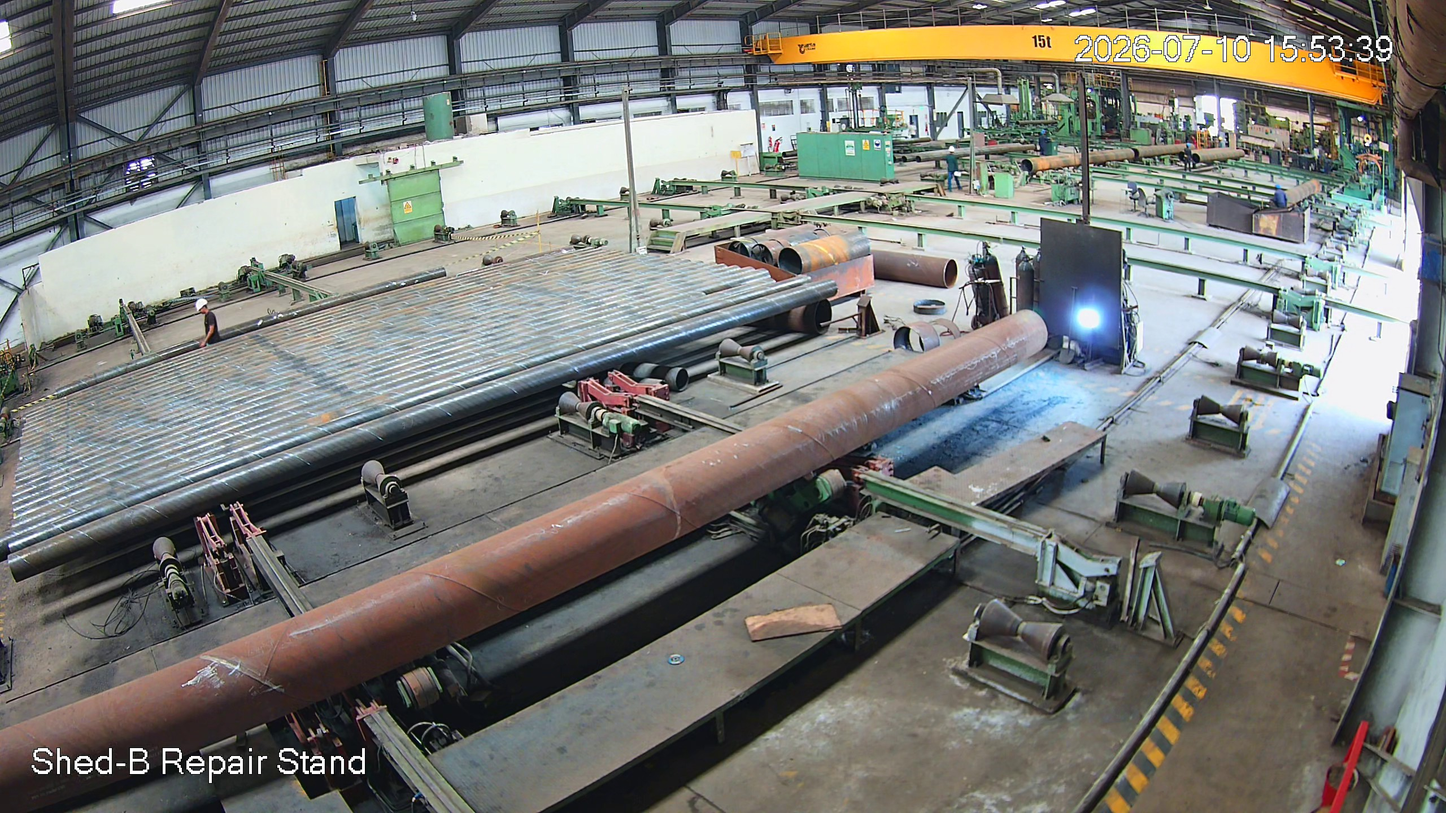Helmet: (192, 297, 218, 321), (947, 145, 960, 157)
Person: (190, 298, 225, 350), (945, 146, 964, 187)
